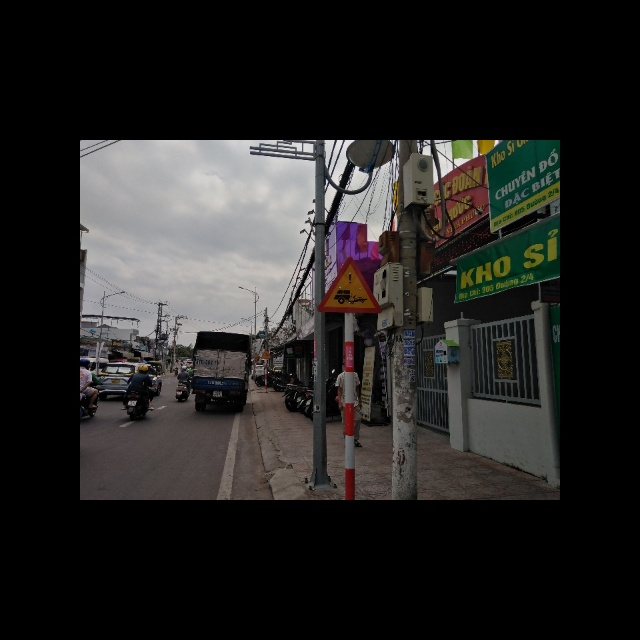Đoạn đường hay xảy ra tai nạn: (316, 257, 381, 315)
Đường đôi: (259, 348, 272, 360)
